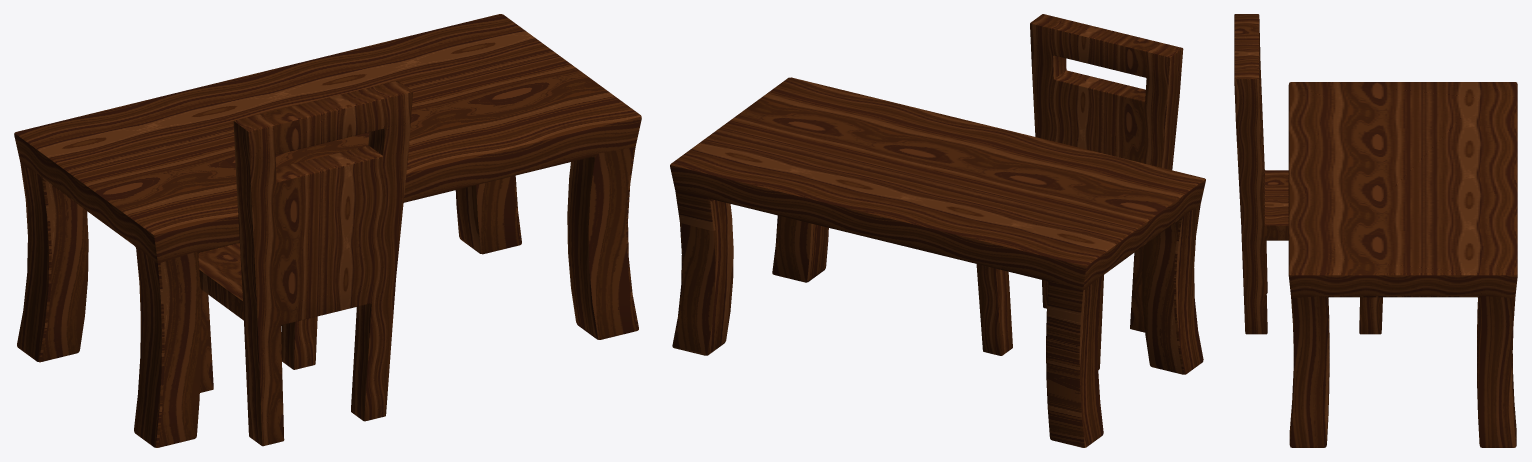
The model's file is Kitchen_Table.fbx.
3 views of the same model, side by side, from view 1: azimuth 30°, elevation 25°; view 2: azimuth 150°, elevation 25°; view 3: azimuth 270°, elevation 25° (orthographic). The views are drawn at different scales.
Parts seen in each view (by area): view 1: Kitchen_Table_1, Kitchen_Chair_2; view 2: Kitchen_Table_1, Kitchen_Chair_2; view 3: Kitchen_Table_1, Kitchen_Chair_2.
Part boxes in pixels (box(x1,y1,x2,y2)): Kitchen_Table_1: box(14, 14, 641, 447); Kitchen_Chair_2: box(198, 81, 412, 446); Kitchen_Table_1: box(670, 77, 1205, 447); Kitchen_Chair_2: box(976, 14, 1183, 369); Kitchen_Table_1: box(1288, 82, 1517, 447); Kitchen_Chair_2: box(1234, 14, 1382, 334).
Bounding box in the file's own units: 163 × 105 × 101.
Materials: 1 (1 with a texture image).
